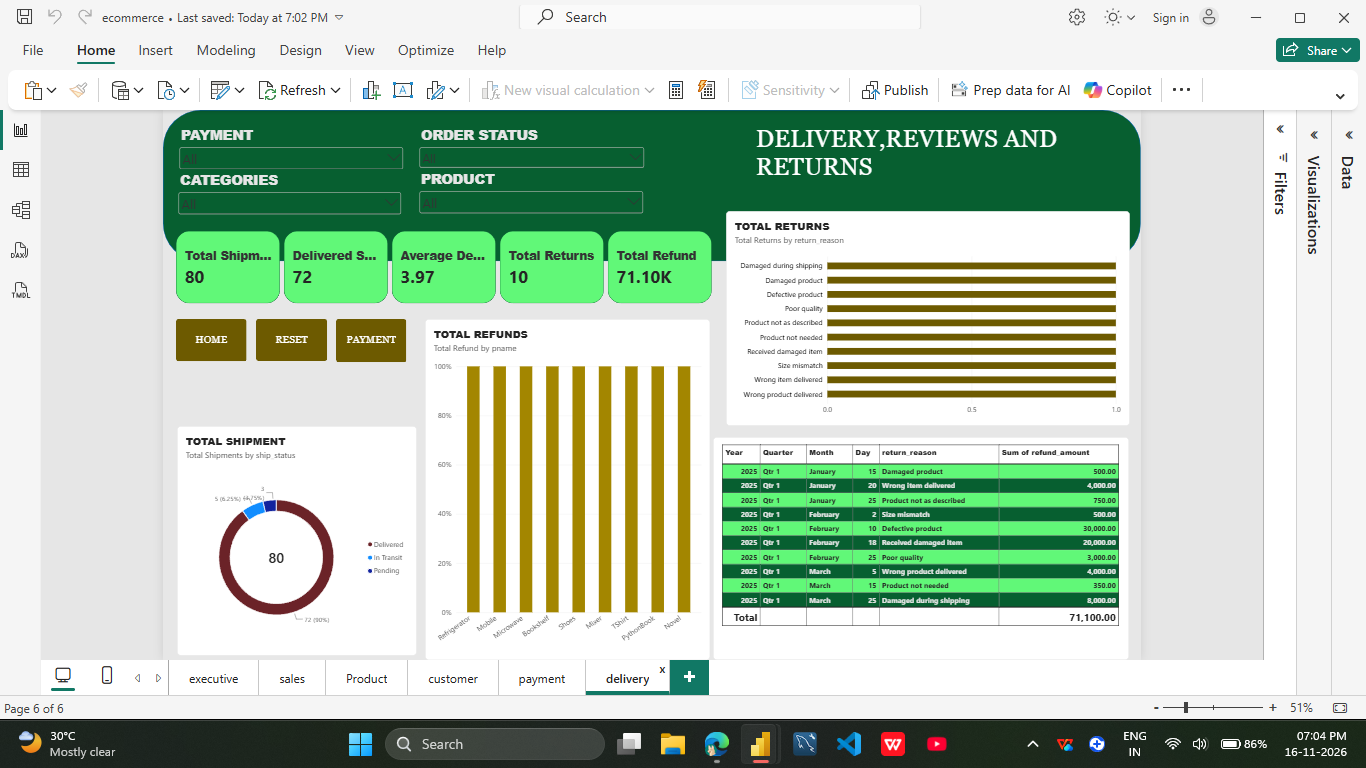

What the dashboard file says about the page in this screenshot:
{"tool":"powerbi","page":{"name":"delivery","canvas":[1920,1080],"ordinal":5},"visuals":[{"type":"shape","box":[0,0,1920,296.9],"z":0},{"type":"slicer","fields":{"Values":["ecom category.catname"]},"box":[26.2,117,446.7,99.9],"z":4000},{"type":"slicer","fields":{"Values":["ecom product.pname"]},"box":[498.5,116.4,449.1,99.5],"z":5000},{"type":"slicer","fields":{"Values":["ecom payment.payment_status"]},"box":[26.8,29,449.1,86.1],"z":6000},{"type":"slicer","title":"ORDER STATUS","fields":{"Values":["ecom orderss.ordstatus"]},"box":[497.9,29,451,87.1],"z":7000},{"type":"cardVisual","fields":{"Data":["ecom shipment.Total Shipments","ecom shipment.Delivered Shipments","ecom shipment.Average Delivery Days","ecom returns.Total Returns","ecom returns.Total Refund"]},"box":[25,237.5,1055,142.5],"z":7001},{"type":"tableEx","fields":{"Values":["ecom returns.return_date.Variation.Date Hierarchy.Year","ecom returns.return_date.Variation.Date Hierarchy.Quarter","ecom returns.return_date.Variation.Date Hierarchy.Month","ecom returns.return_date.Variation.Date Hierarchy.Day","ecom returns.return_reason","Sum(ecom returns.refund_amount)"]},"box":[1080.6,643,817.1,437.6],"z":7002},{"type":"donutChart","title":"TOTAL SHIPMENT","fields":{"Category":["ecom shipment.ship_status"],"Y":["ecom shipment.Total Shipments"]},"box":[26.8,620.7,471.1,451],"z":7003},{"type":"clusteredBarChart","title":"TOTAL RETURNS","fields":{"Category":["ecom returns.return_reason"],"Y":["ecom returns.Total Returns"]},"box":[1105.1,198.7,792.6,422],"z":7004},{"type":"hundredPercentStackedColumnChart","title":"TOTAL REFUNDS","fields":{"Category":["ecom product.pname"],"Y":["ecom returns.Total Refund"]},"box":[515,410,560,670],"z":7005},{"type":"textbox","box":[1165,30,697.5,117.5],"z":7006},{"type":"actionButton","box":[25,410,138.7,83.2],"z":7008},{"type":"actionButton","box":[182.5,410,140,82.5],"z":7009},{"type":"actionButton","box":[340,410,138.4,84.8],"z":7010}]}

Visuals, with their boxes on the page's 1920x1080 design canvas (x1, y1, x2, y2). These are canvas units, not pixel positions in the 1366x768 screenshot, which may show the page scaled, cropped or inside an application window:
shape: crop(0, 0, 1920, 297)
slicer - ecom category.catname: crop(26, 117, 473, 217)
slicer - ecom product.pname: crop(498, 116, 948, 216)
slicer - ecom payment.payment_status: crop(27, 29, 476, 115)
"ORDER STATUS" slicer: crop(498, 29, 949, 116)
cardVisual - ecom shipment.Total Shipments x ecom shipment.Delivered Shipments: crop(25, 238, 1080, 380)
tableEx - ecom returns.return_date.Variation.Date Hierarchy.Year x ecom returns.return_date.Variation.Date Hierarchy.Quarter: crop(1081, 643, 1898, 1081)
"TOTAL SHIPMENT" donutChart: crop(27, 621, 498, 1072)
"TOTAL RETURNS" clusteredBarChart: crop(1105, 199, 1898, 621)
"TOTAL REFUNDS" hundredPercentStackedColumnChart: crop(515, 410, 1075, 1080)
textbox: crop(1165, 30, 1862, 148)
actionButton: crop(25, 410, 164, 493)
actionButton: crop(182, 410, 322, 492)
actionButton: crop(340, 410, 478, 495)
